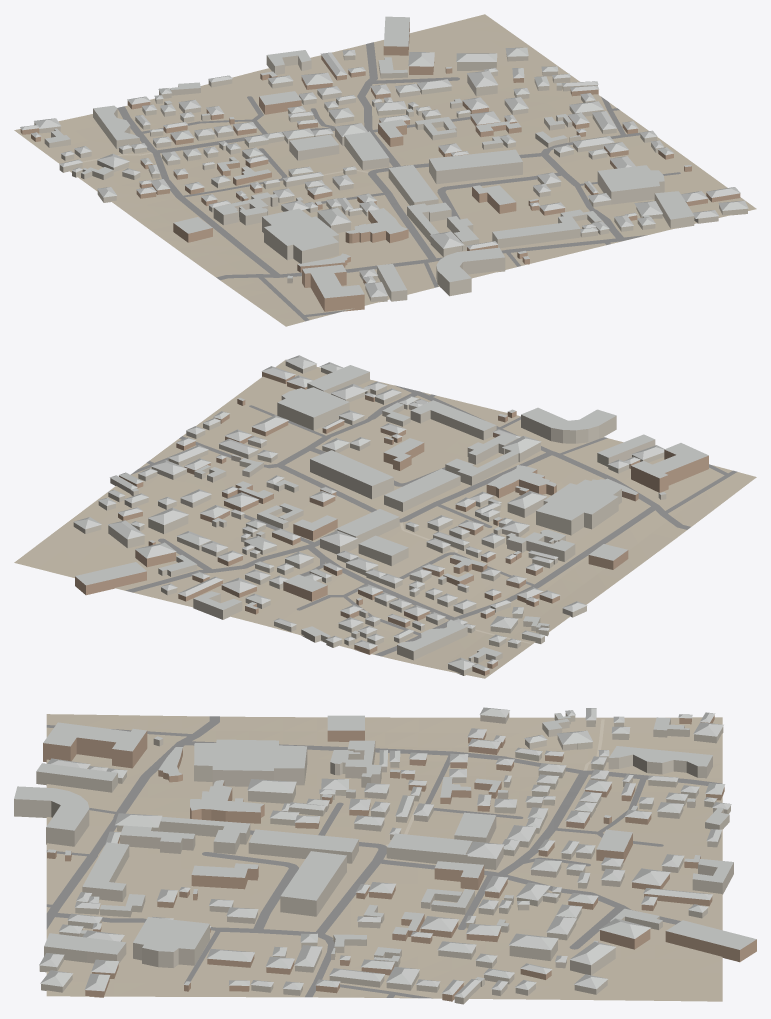
The model's file is bolak_-8_-3.glb.
3 renders of one model, top to bottom at view 1: azimuth 30°, elevation 25°; view 2: azimuth 150°, elevation 25°; view 3: azimuth 270°, elevation 25°, orthographic. The views are drawn at different scales.
Parts seen in each view (by area): view 1: Yer_Tuproq-col, Tom_Shifer, Devor_Suvoq-col, Yol_Mahalla-col, Devor_Gisht-col; view 2: Yer_Tuproq-col, Tom_Shifer, Devor_Suvoq-col, Devor_Gisht-col, Yol_Mahalla-col; view 3: Yer_Tuproq-col, Tom_Shifer, Devor_Suvoq-col, Devor_Gisht-col, Yol_Mahalla-col.
Boxes of the visible parts, <box> form: Yer_Tuproq-col: <box>14,14,756,326</box>; Tom_Shifer: <box>20,16,748,298</box>; Devor_Suvoq-col: <box>34,54,747,302</box>; Yol_Mahalla-col: <box>117,42,680,321</box>; Devor_Gisht-col: <box>20,22,740,311</box>; Yer_Tuproq-col: <box>14,359,756,678</box>; Tom_Shifer: <box>73,355,708,671</box>; Devor_Suvoq-col: <box>73,361,666,675</box>; Devor_Gisht-col: <box>75,372,708,675</box>; Yol_Mahalla-col: <box>125,385,737,656</box>; Yer_Tuproq-col: <box>46,714,722,1001</box>; Tom_Shifer: <box>14,707,756,997</box>; Devor_Suvoq-col: <box>14,712,733,1004</box>; Devor_Gisht-col: <box>43,715,756,1001</box>; Yol_Mahalla-col: <box>46,716,721,998</box>.
Size of what is drawn, in the model's own units: 413 by 17.92 by 440.
